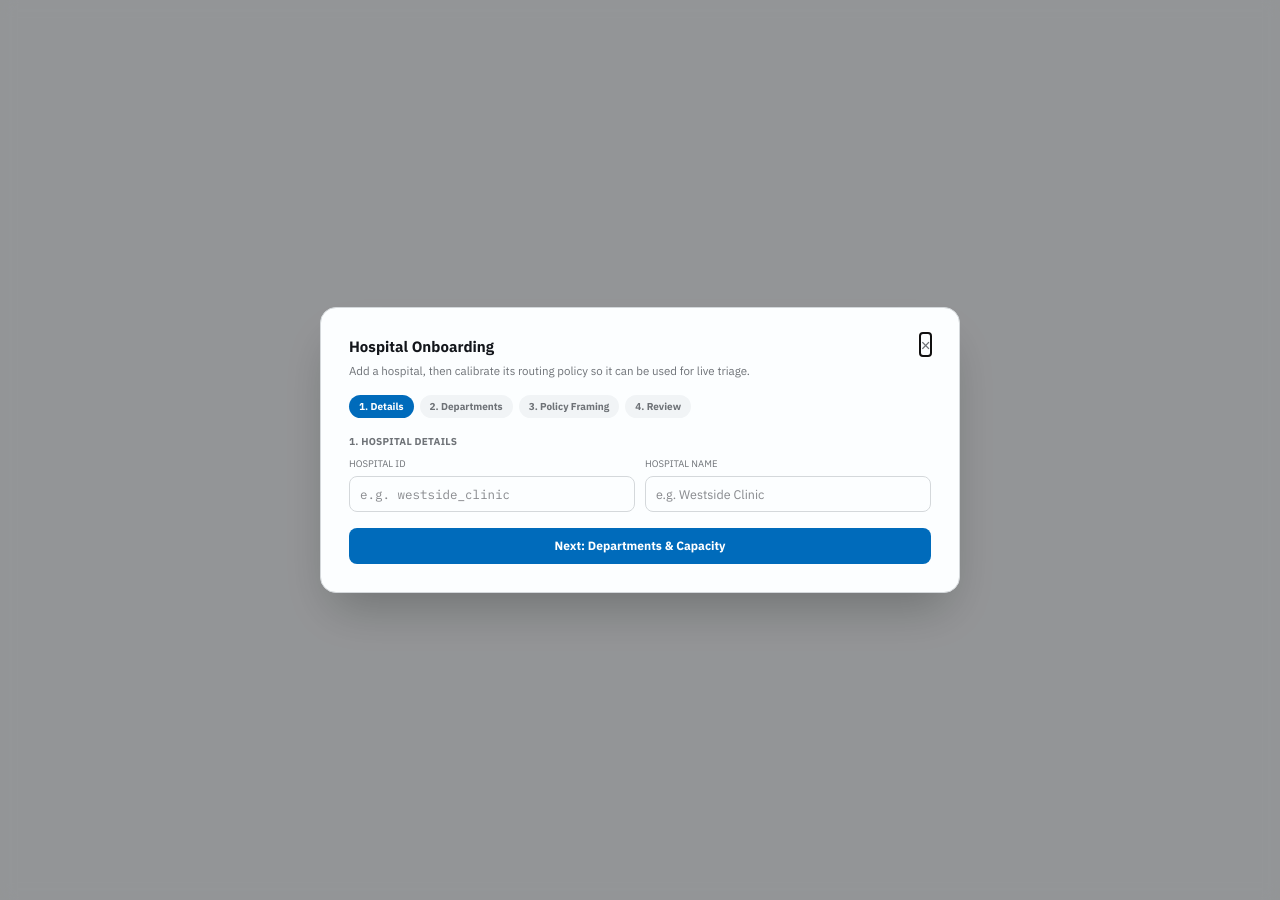
HospitalOnboardingWizard › requires an ID and name before registering (validated on submit, not on Next)
Click the button "Next: Departments & Capacity".
click(640, 546)  # box [349,528,931,564]
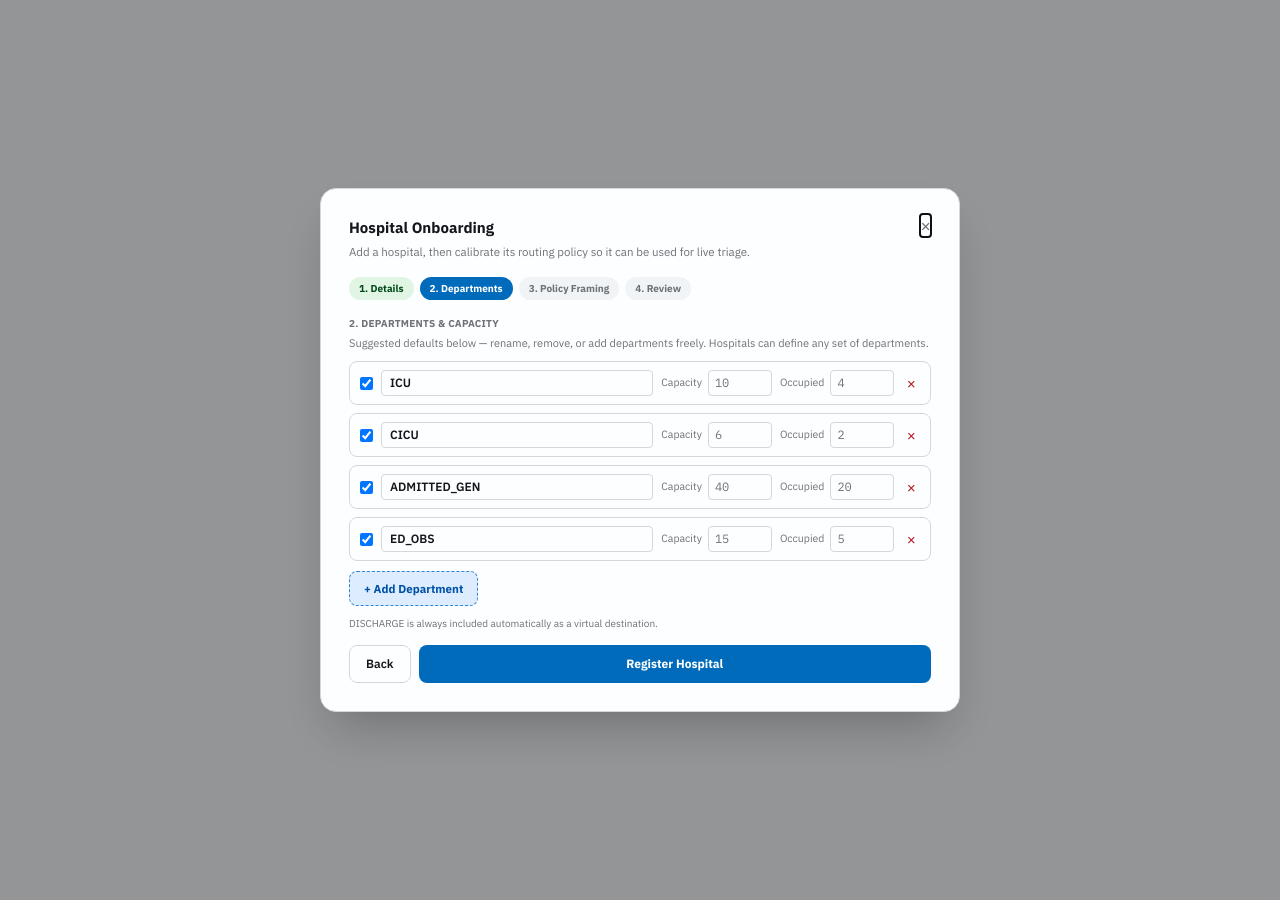
Click the button "Register Hospital".
click(675, 664)  # box [419,645,931,683]
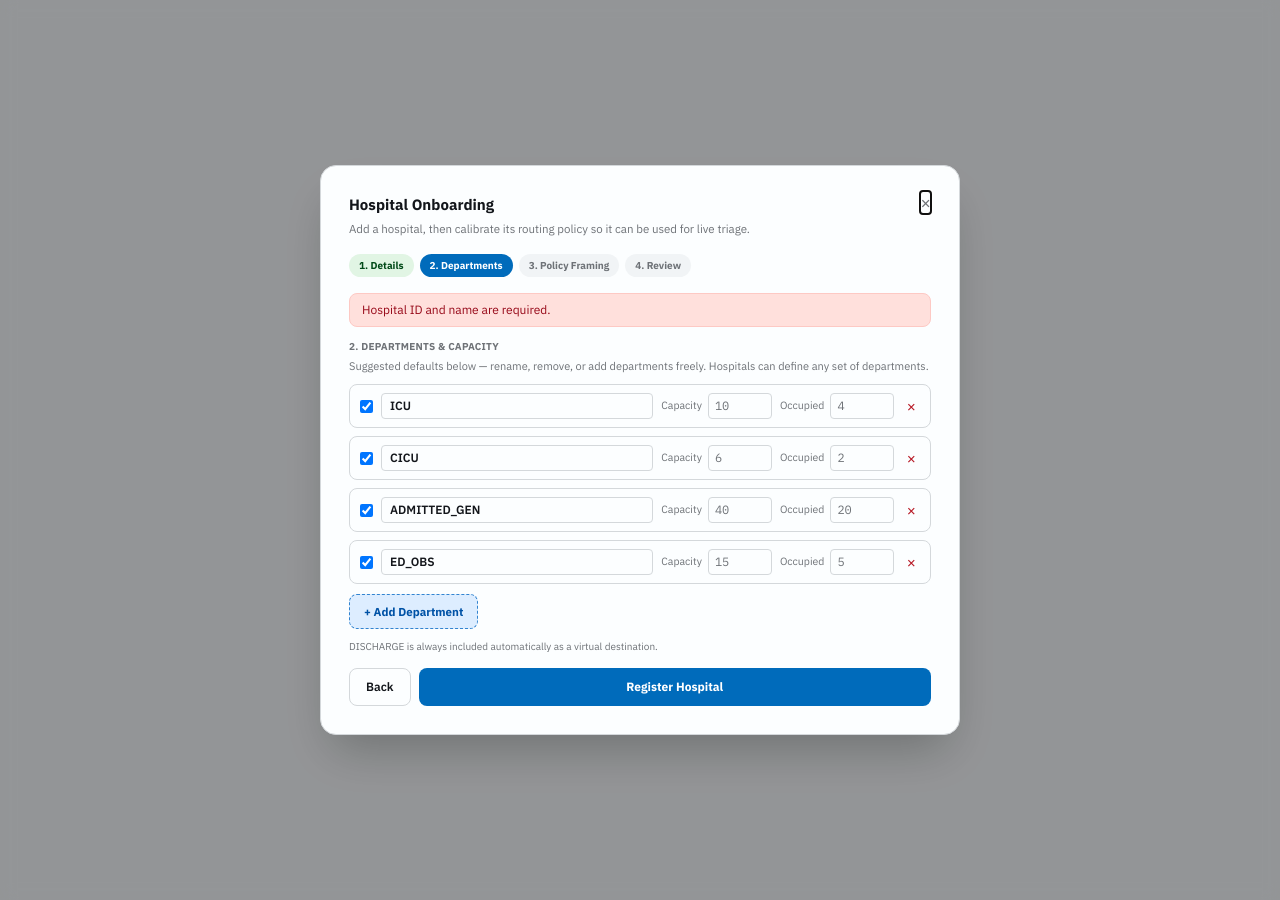
Expected: the text "Hospital ID and name are required." is shown, [349,292,931,326]
